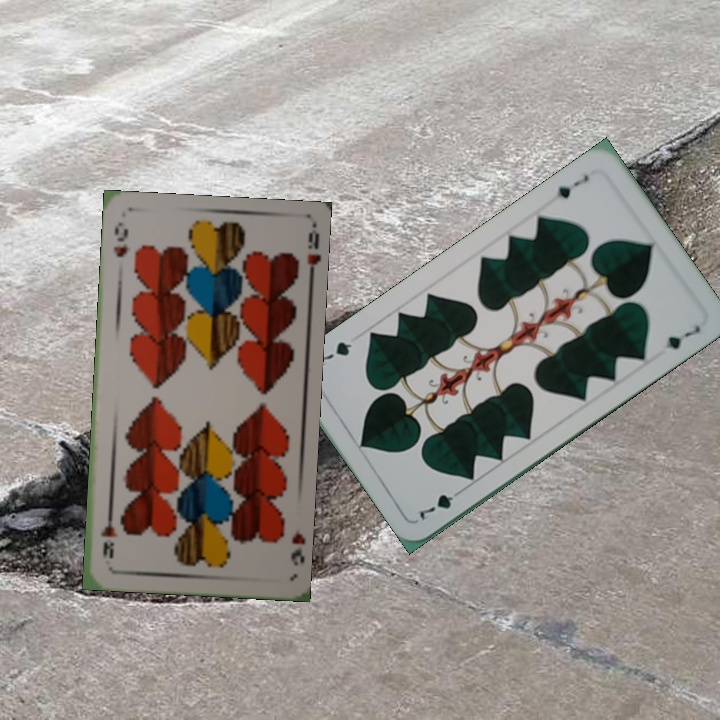G7: (415, 484, 467, 523), (552, 170, 592, 202)
H9: (109, 217, 131, 260), (287, 528, 305, 568)
